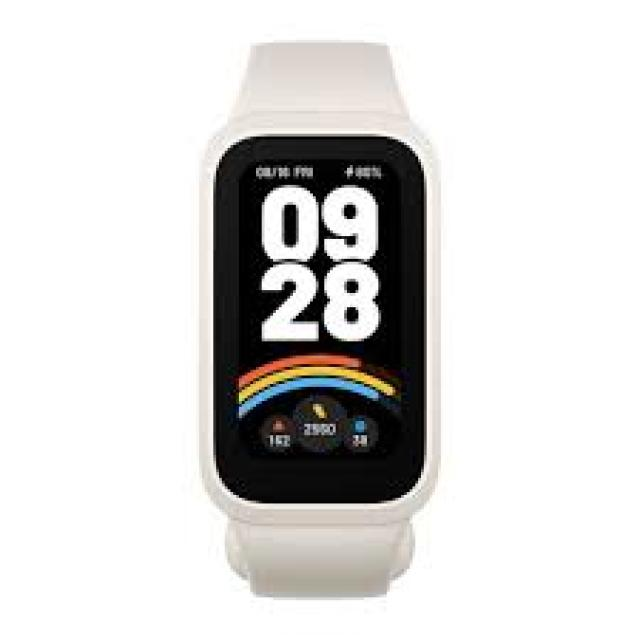objects: (199, 46, 438, 600)
